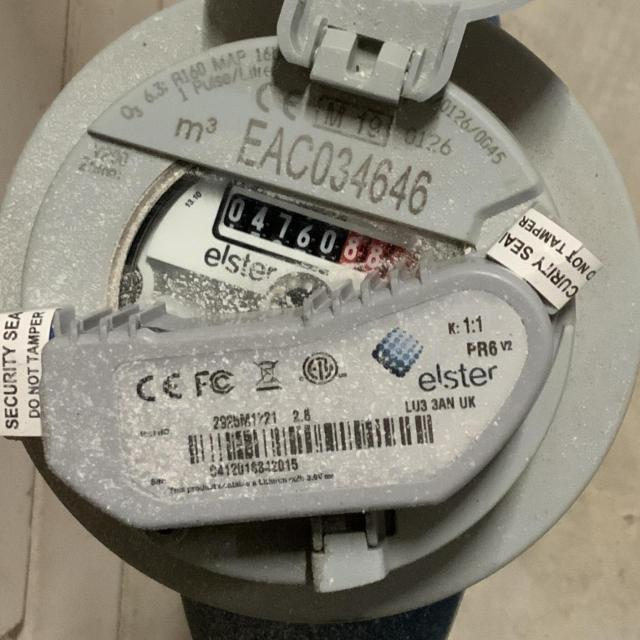gaz_meter: (24, 33, 579, 516)
indication: (218, 181, 417, 290)
